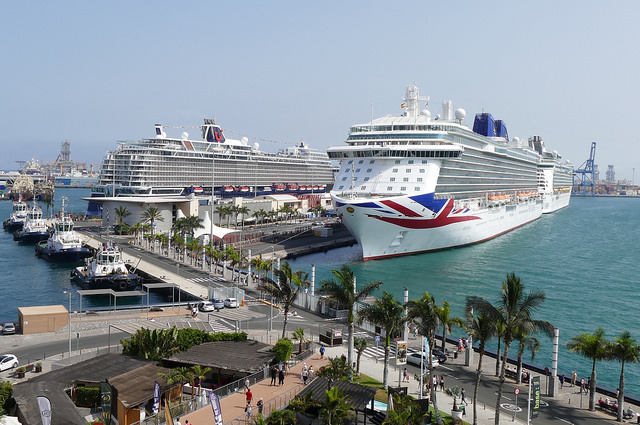cruise_ship: (340, 86, 545, 254), (86, 117, 332, 196)
tug_boat: (73, 240, 144, 299), (39, 198, 88, 264), (20, 199, 49, 244), (5, 193, 26, 227)
